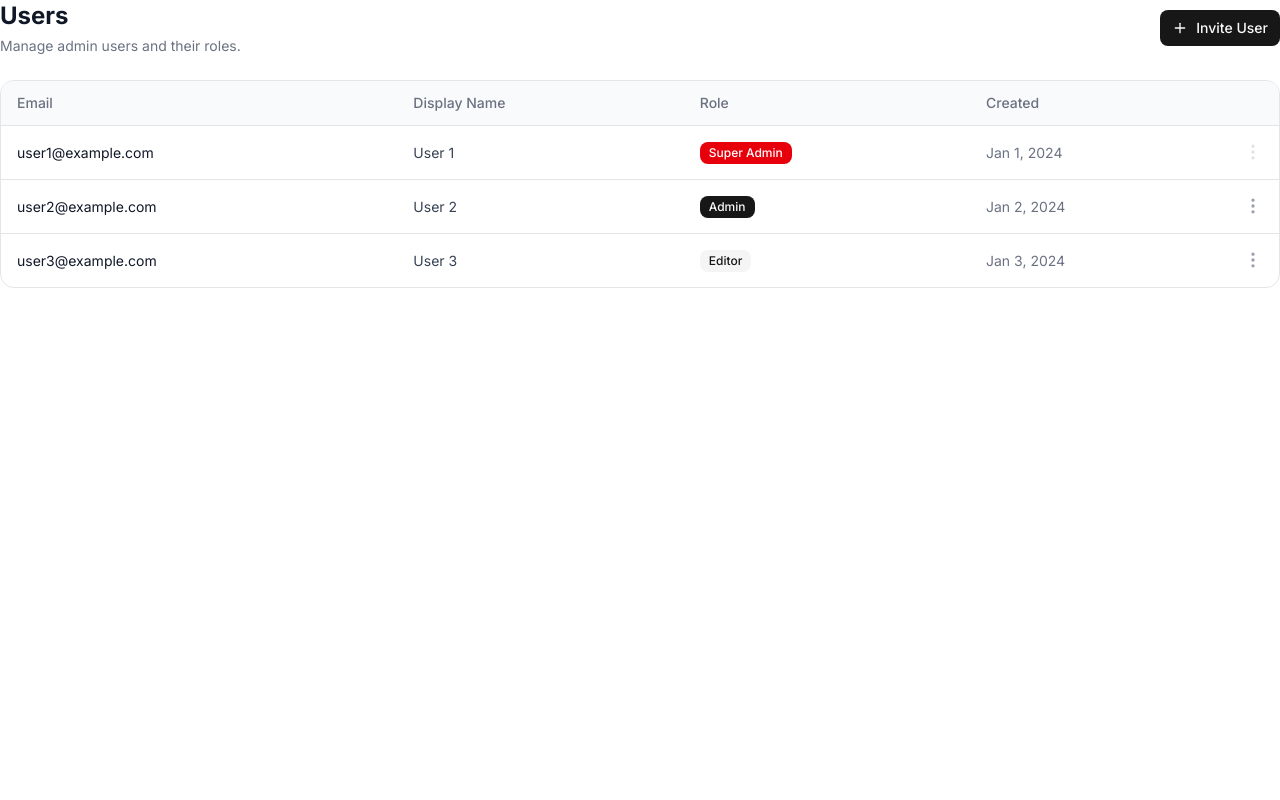
UsersManager › opens Edit Role dialog with user email in description
Click the button without text in the row of "user2@example.com".
click(1253, 206)  # box [1239, 192, 1267, 220]
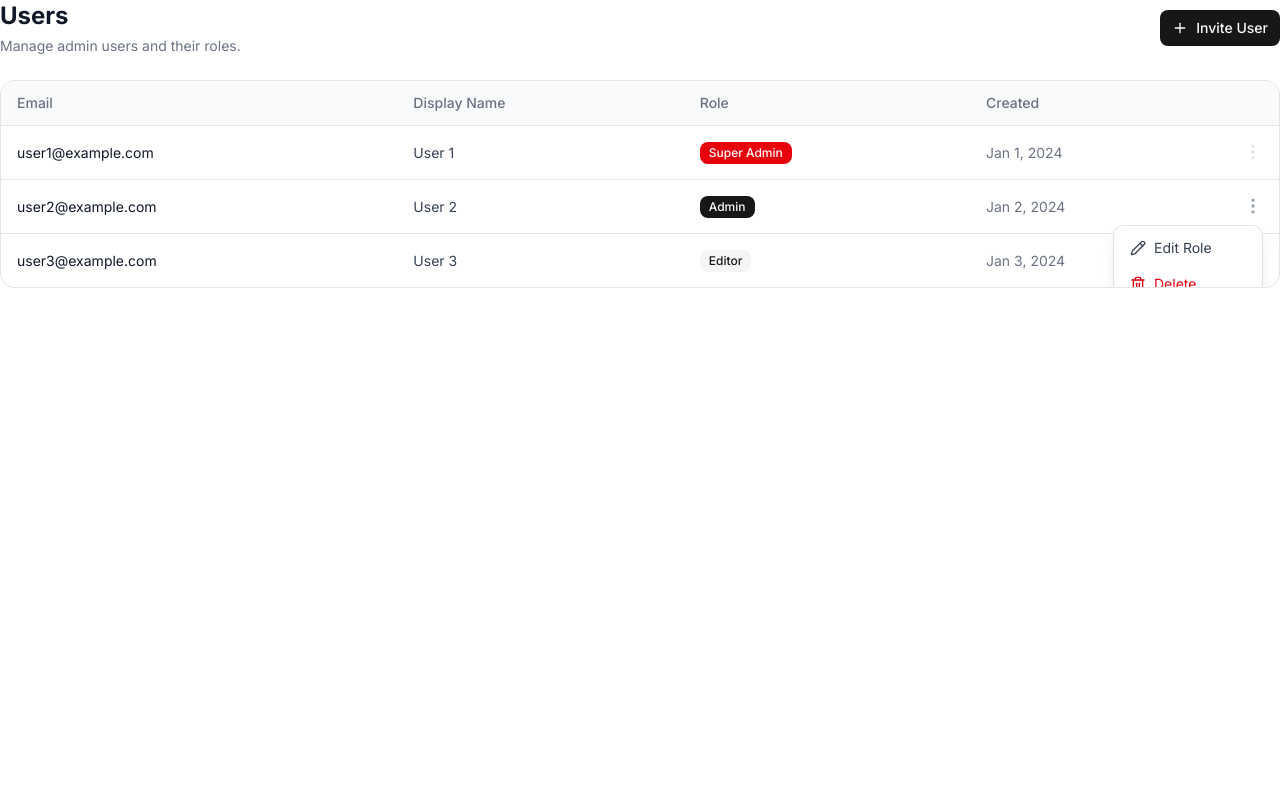
Click the button "Edit Role".
click(1188, 248)  # box [1114, 230, 1262, 266]
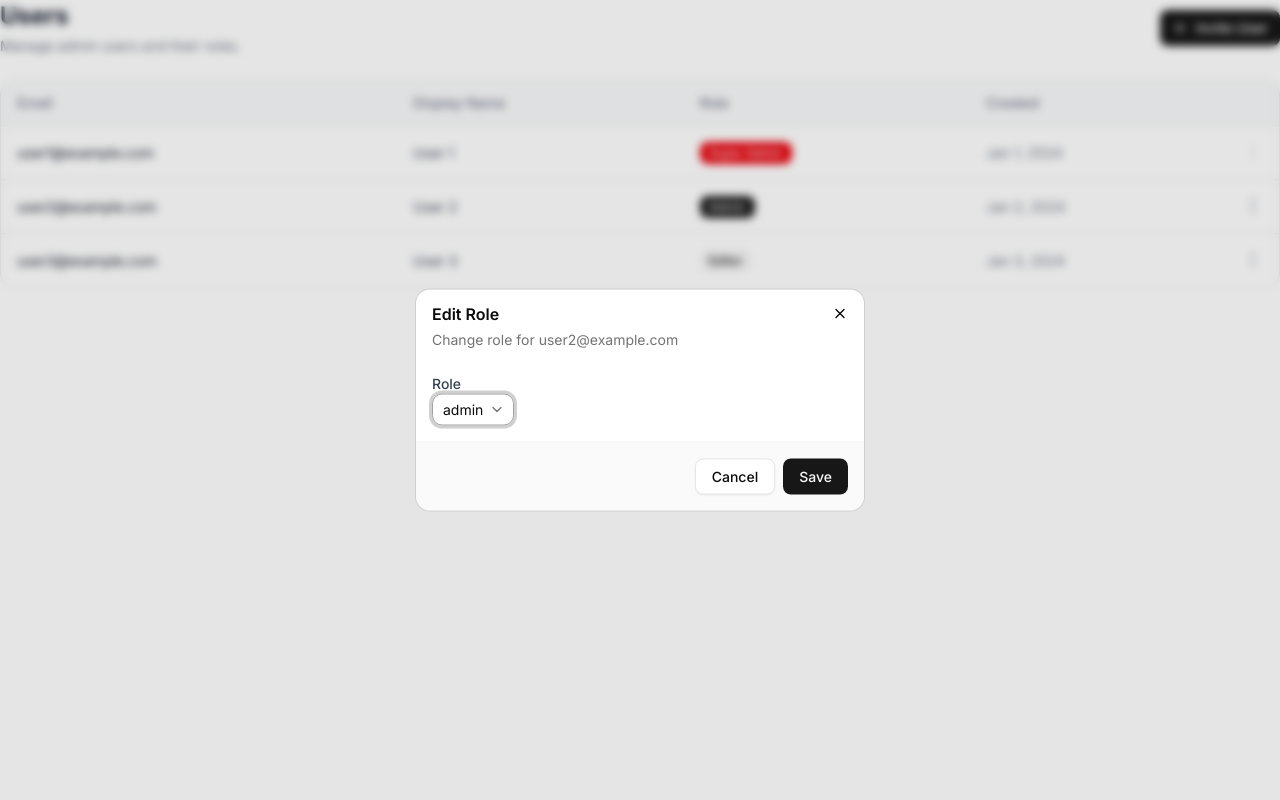
Check: the heading "Edit Role" is shown, box [432, 304, 499, 324]
Check: the text "Change role for user2@example.com" is shown, box [432, 330, 678, 348]
